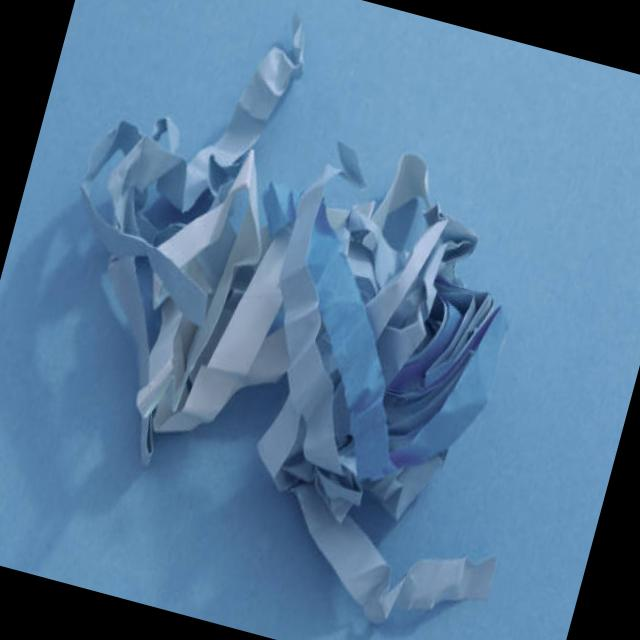electronic: (0, 0, 620, 640), (218, 125, 546, 552), (262, 477, 504, 640)
